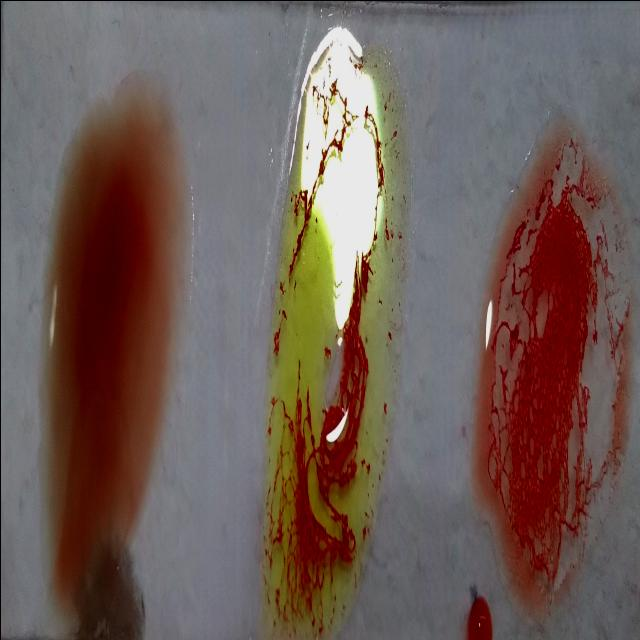B: (271, 31, 386, 640)
D: (480, 119, 620, 602)
